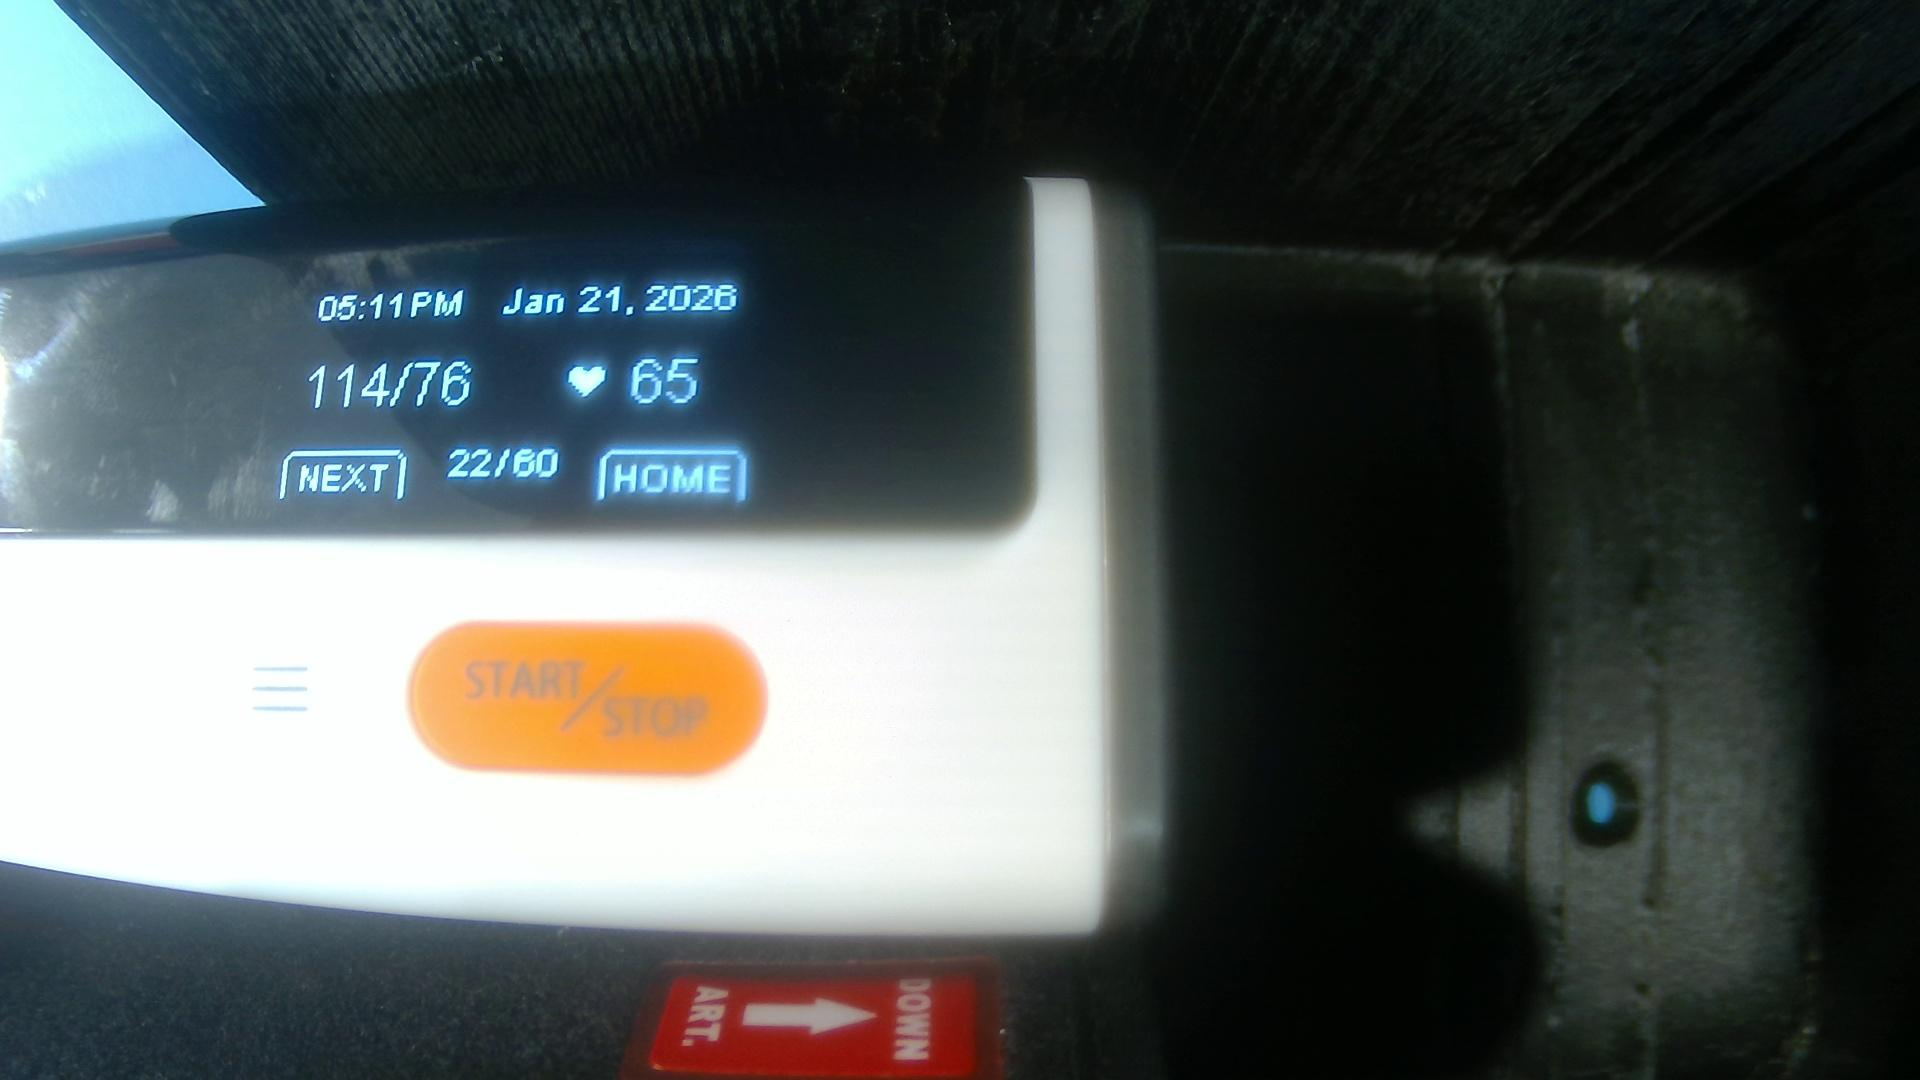DISPLAY: (5, 183, 1005, 533)
